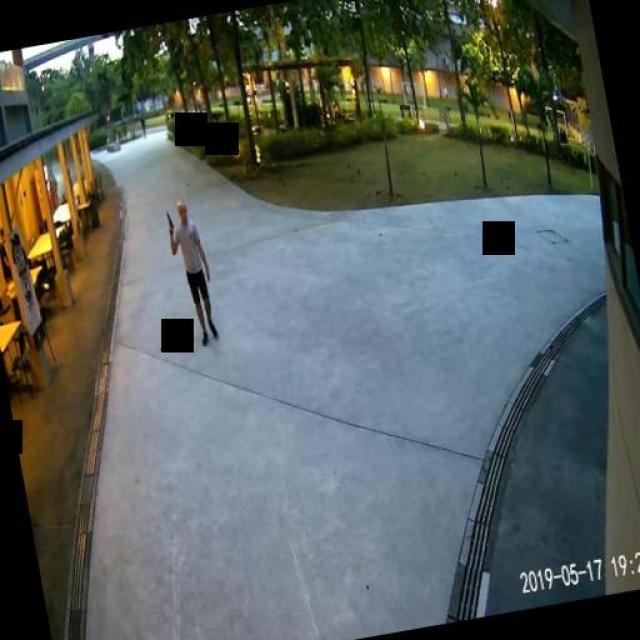gun: (163, 207, 175, 235)
